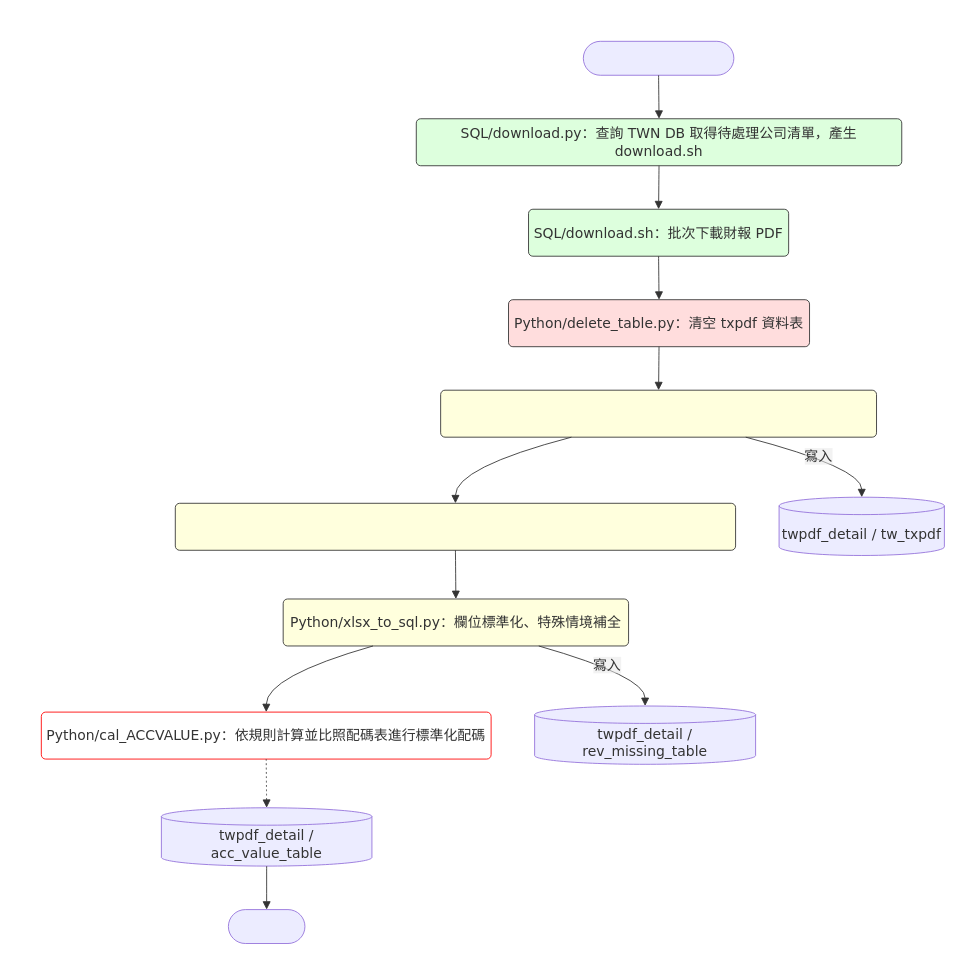
Image size: 960x959. Some labels were removed from this diagram. Here are the shapes that lost their labels. From the top down, the box of each, then its label:
(582, 40, 734, 75): 流程開始 (scripts.sh)
(440, 389, 877, 437): Python/convet_pdf_to_sql.py：pdfplumber 解析 PDF，寫入 txpdf
(174, 502, 736, 550): PPE.py / EDA.py / IP.py / OGL.py / OI.py / OR.py / FC.py：呼叫 Gemini API 進行解析
(228, 909, 305, 944): 流程結束
